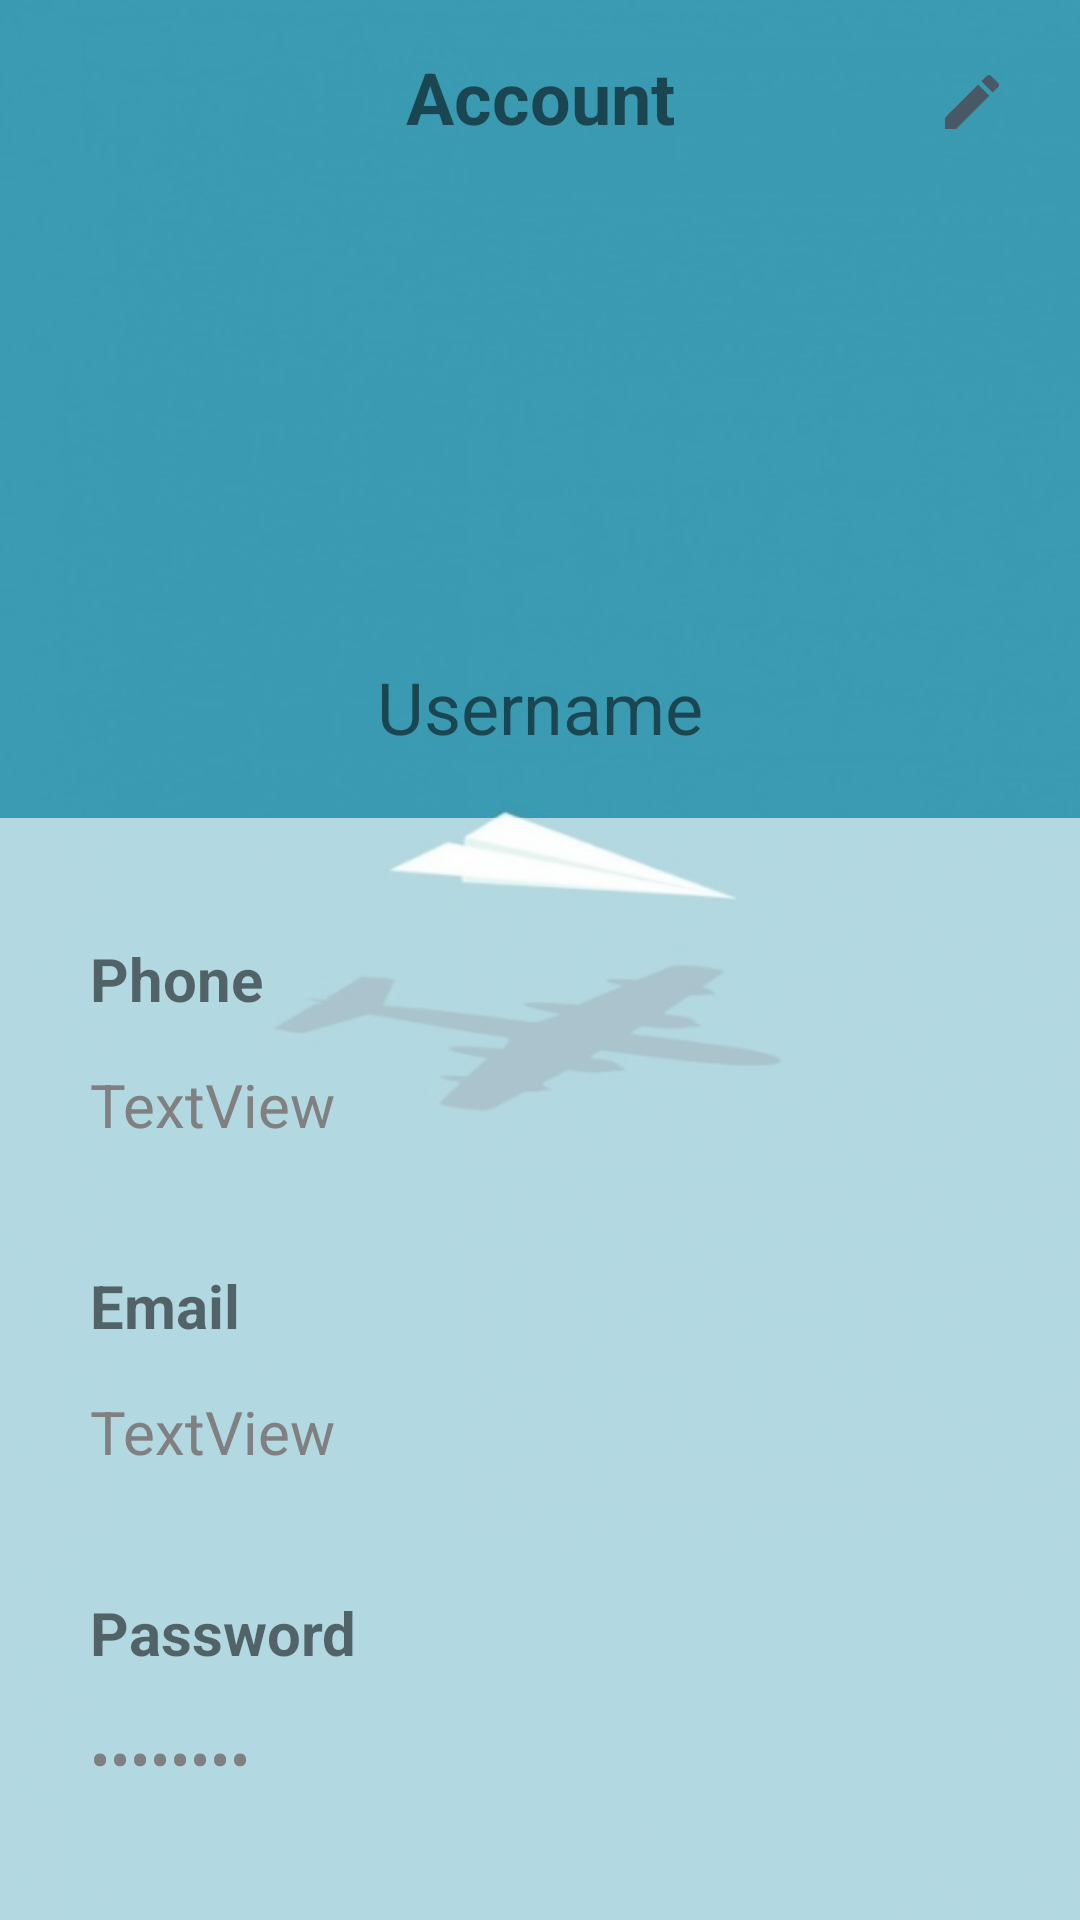

Point at icon controls on the screen. Image size 1080 x 1920, points as (x=x, y=y).
edit: (x=972, y=102)
